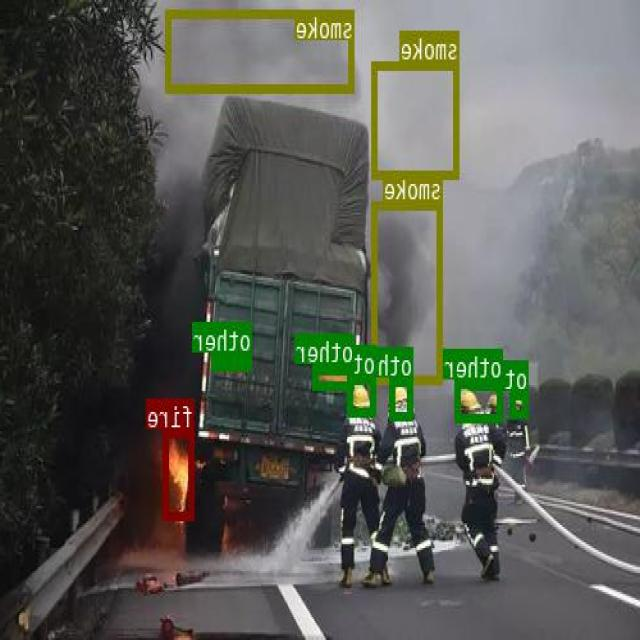fire: (165, 429, 195, 519)
other: (456, 379, 504, 420), (348, 374, 376, 415), (390, 376, 414, 419), (314, 363, 355, 388), (213, 352, 253, 370), (511, 389, 530, 416)
smoke: (167, 9, 356, 91), (374, 201, 444, 383), (373, 60, 460, 178)
